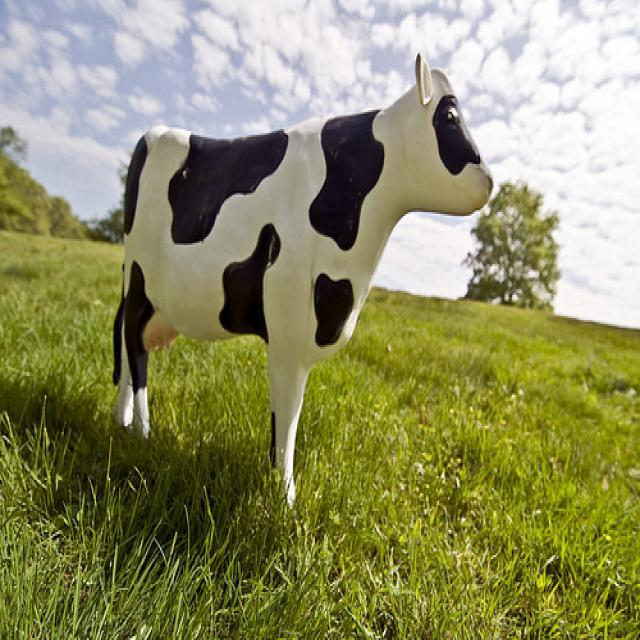cow: (110, 50, 490, 501)
